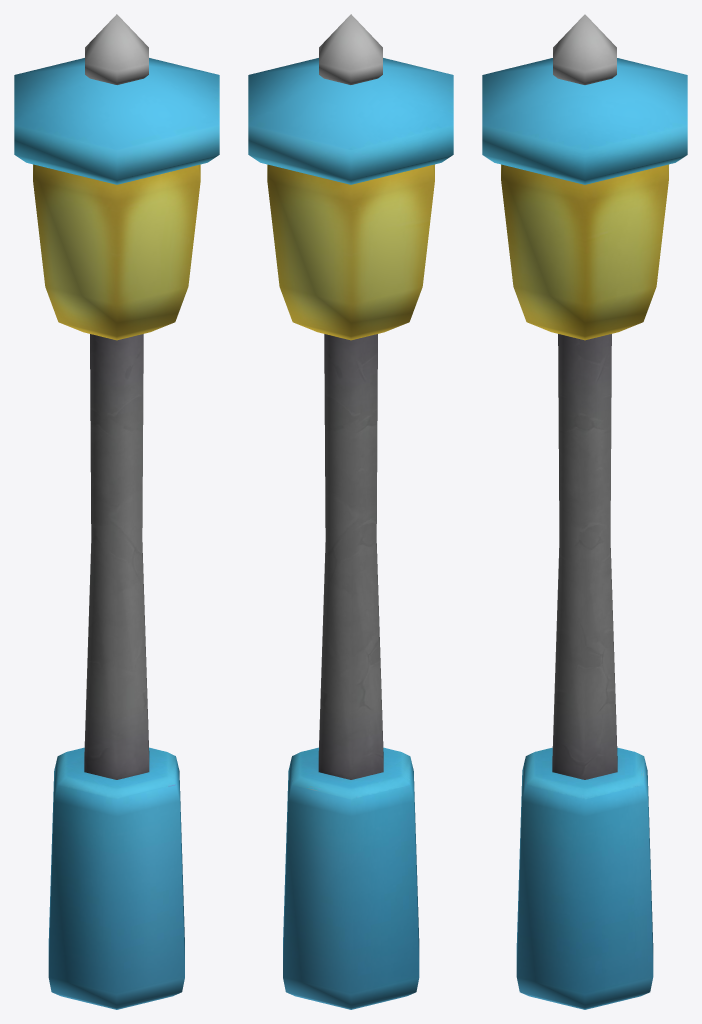
File: Lamp_01.fbx
The picture shows the model from 3 angles, left to right: view 1: azimuth 30°, elevation 25°; view 2: azimuth 150°, elevation 25°; view 3: azimuth 270°, elevation 25°; orthographic projection.
Parts seen in each view (by area): view 1: Lamp_01; view 2: Lamp_01; view 3: Lamp_01.
Part boxes in pixels (<box>): Lamp_01: <box>14,14,219,1009</box>; Lamp_01: <box>248,14,453,1009</box>; Lamp_01: <box>482,14,687,1009</box>.
Bounding box in the file's own units: 0.9843 × 4.43 × 0.8524.
